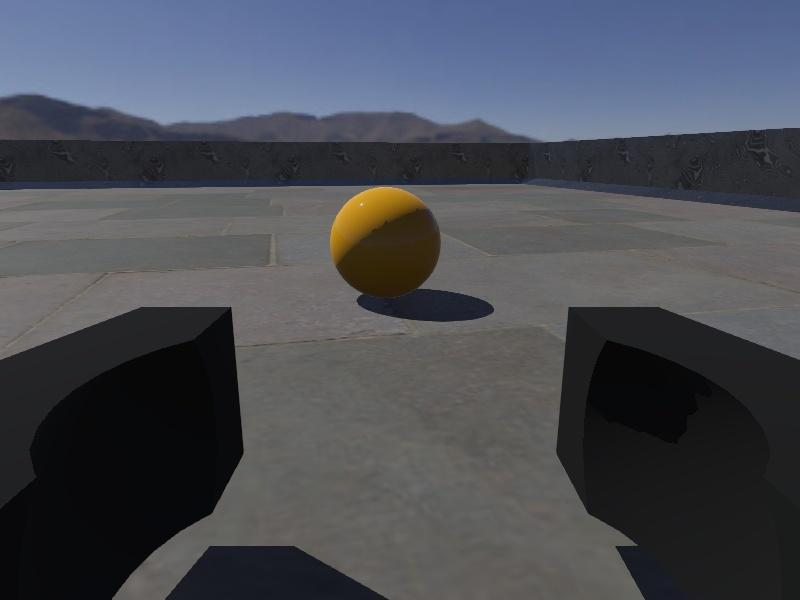orange ball: (329, 185, 442, 301)
